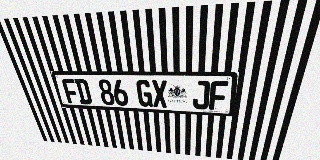6: (111, 79, 129, 106)
8: (97, 79, 115, 105)
D: (74, 79, 93, 104)
F: (209, 81, 228, 110), (61, 79, 80, 104)
G: (136, 80, 153, 107)
J: (193, 81, 210, 110)
X: (151, 80, 168, 108)
